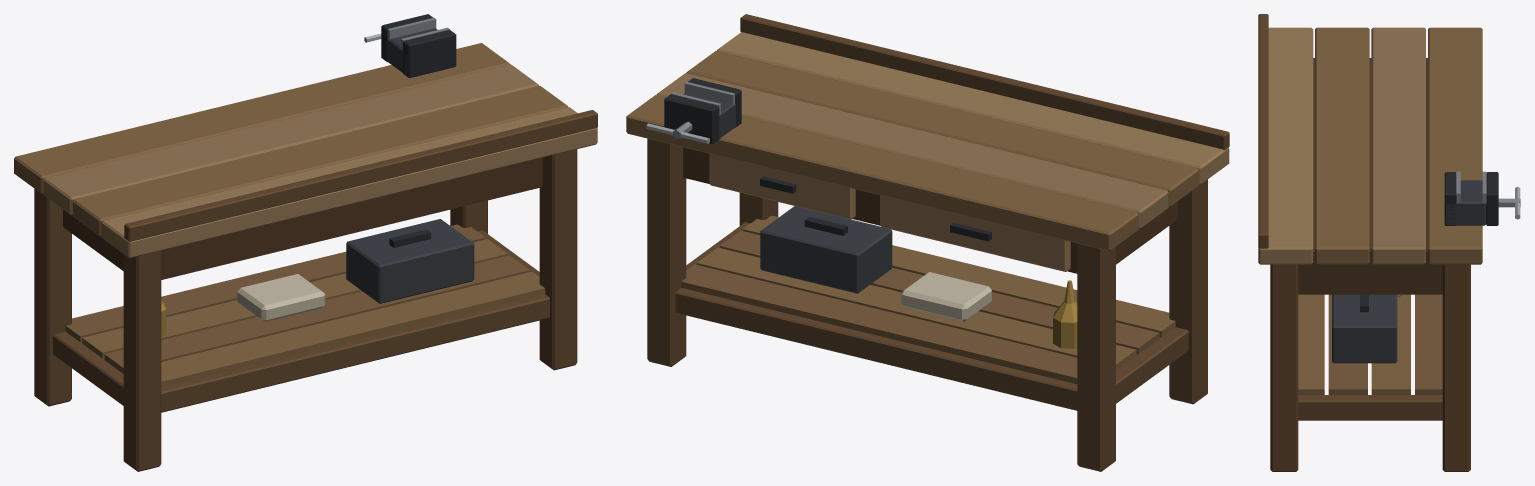
The model's file is prop_workbench.glb.
The picture shows the model from 3 angles, left to right: view 1: azimuth 30°, elevation 25°; view 2: azimuth 150°, elevation 25°; view 3: azimuth 270°, elevation 25°; orthographic projection. The views are drawn at different scales.
Visible parts, largest first — view 1: prop_workbench; view 2: prop_workbench; view 3: prop_workbench.
Part boxes in pixels (left/top/right/bottom): prop_workbench: left=14, top=14, right=597, bottom=471; prop_workbench: left=626, top=14, right=1229, bottom=471; prop_workbench: left=1258, top=14, right=1520, bottom=471.
Size of the model in its own units: 1.76 by 0.981 by 0.8825.
